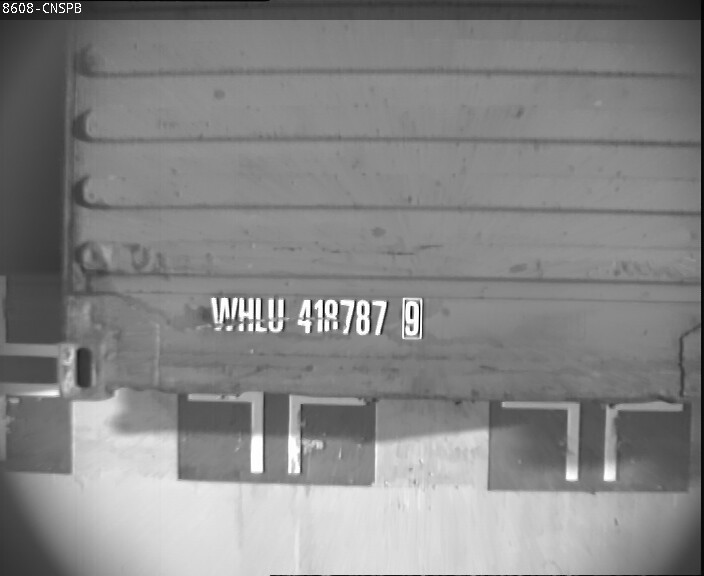groundmarker_1: (186, 389, 363, 473), (504, 397, 681, 481)
